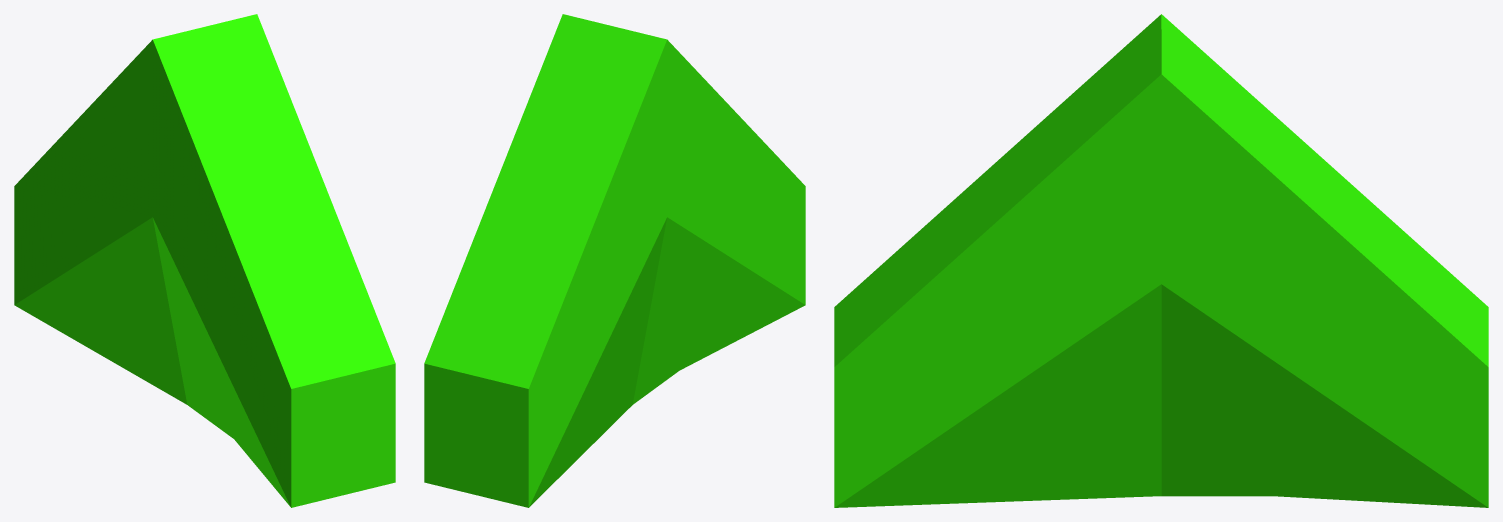
File: PfeilNeu.fbx
3 renders of one model, left to right at view 1: azimuth 30°, elevation 25°; view 2: azimuth 150°, elevation 25°; view 3: azimuth 270°, elevation 25°, orthographic. The views are drawn at different scales.
Visible parts, largest first — view 1: Cube.001; view 2: Cube.001; view 3: Cube.001.
Part boxes in pixels (<box>): Cube.001: <box>14,14,395,507</box>; Cube.001: <box>424,14,805,507</box>; Cube.001: <box>834,14,1488,507</box>.
Size of the model in its own units: 43.55 by 149 by 200.
